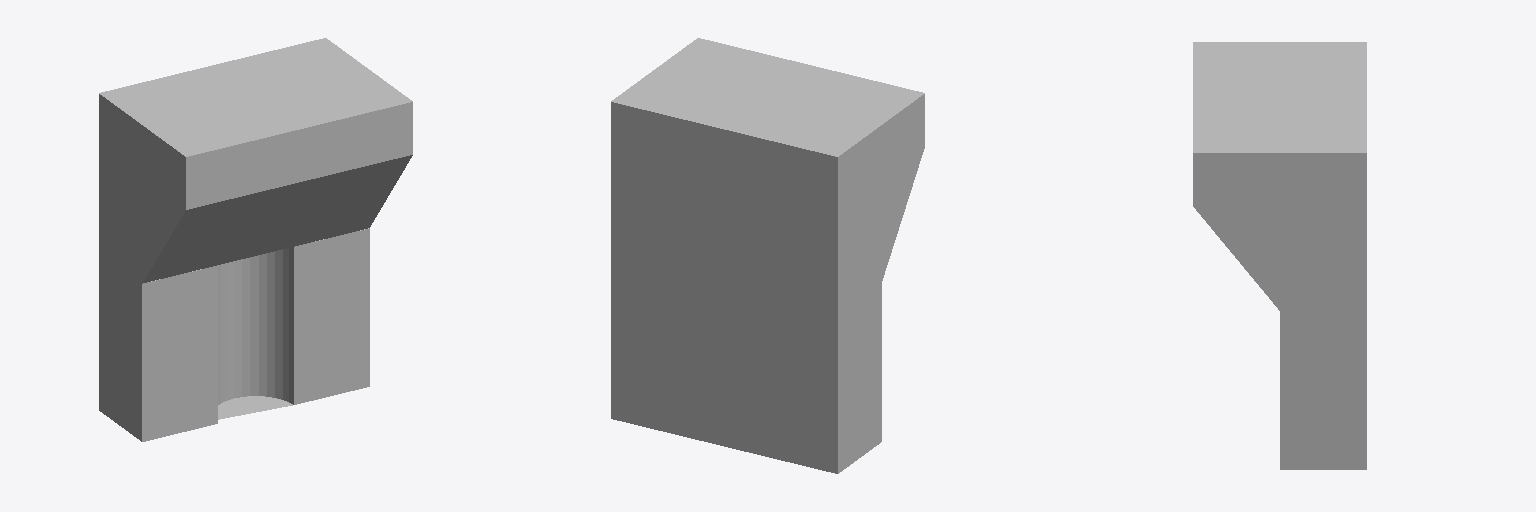
The model's file is breech.obj.
3 renders of one model, left to right at view 1: azimuth 30°, elevation 25°; view 2: azimuth 150°, elevation 25°; view 3: azimuth 270°, elevation 25°, orthographic.
Visible parts, largest first — view 1: Mesh; view 2: Mesh; view 3: Mesh.
Boxes of the visible parts, box(x1,y1,x2,y2) form: Mesh: box(99, 38, 412, 441); Mesh: box(611, 38, 924, 473); Mesh: box(1193, 42, 1366, 469).
Bounding box in the file's own units: 3 × 4 × 2.